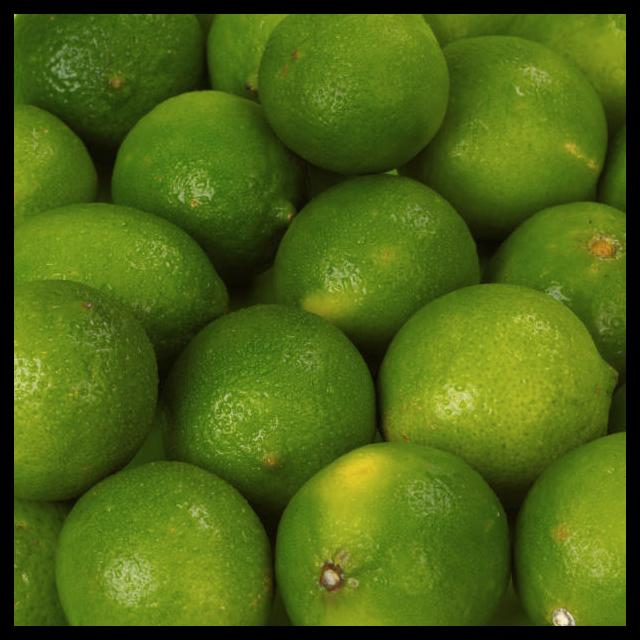lime: (377, 281, 621, 492), (256, 14, 451, 178), (14, 14, 207, 163), (512, 433, 626, 626)
